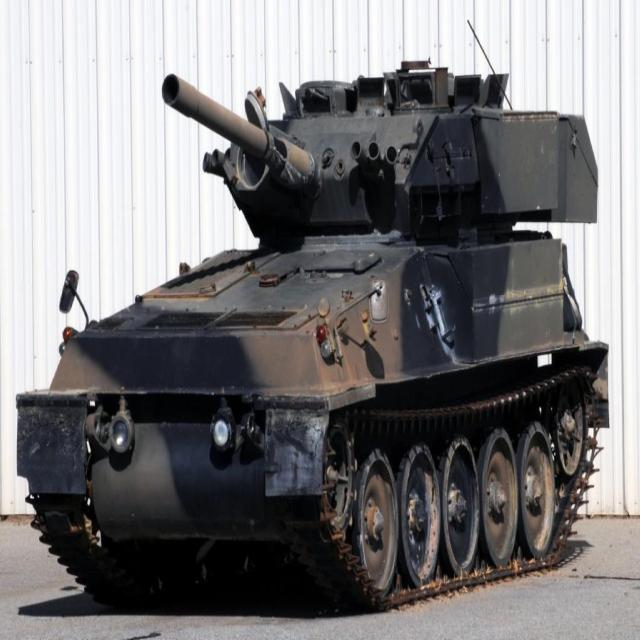Tanks: (29, 69, 595, 603)
